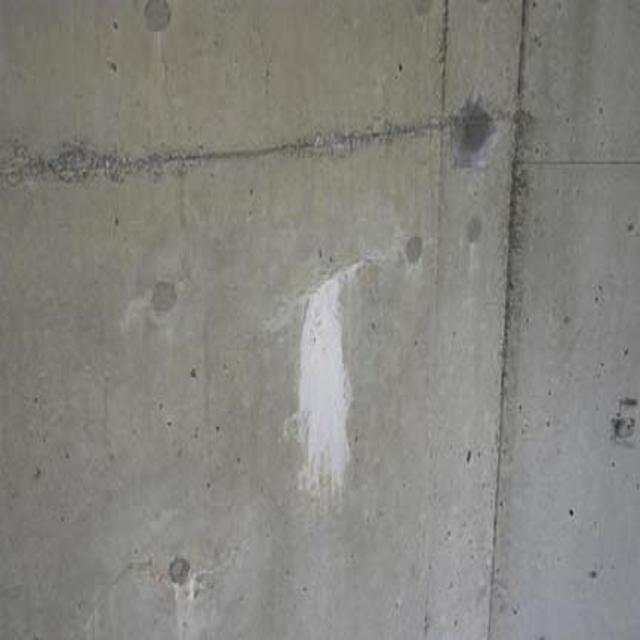freelime: (288, 263, 368, 501)
